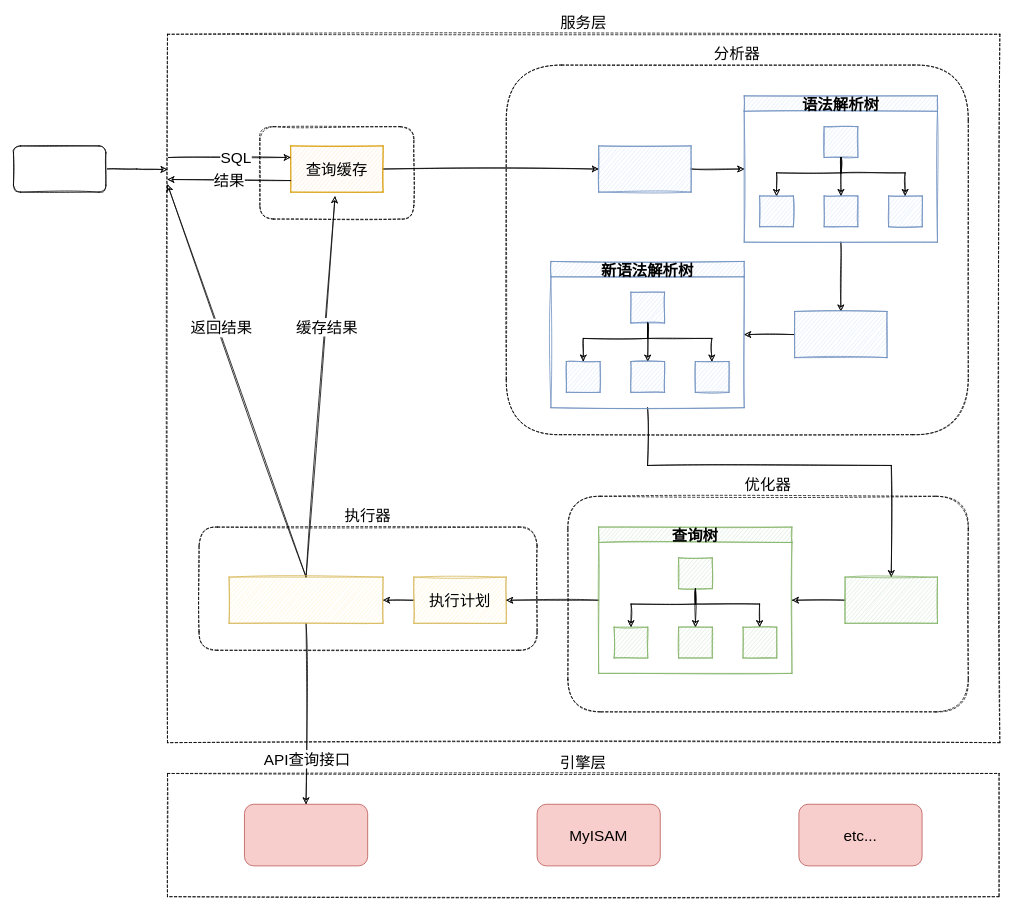
The diagram is 1013 pixels wide and 910 high, and some of its shapes have lost their labels. Here are the shapes that lost their labels. From the top down, the centre of each, then its label:
At point (59, 168): "客户端".
At point (644, 168): "解析器".
At point (840, 334): "预处理".
At point (305, 599): "查询执行引擎接口".
At point (890, 599): "查询优化器".
At point (306, 834): "InnoDB".
